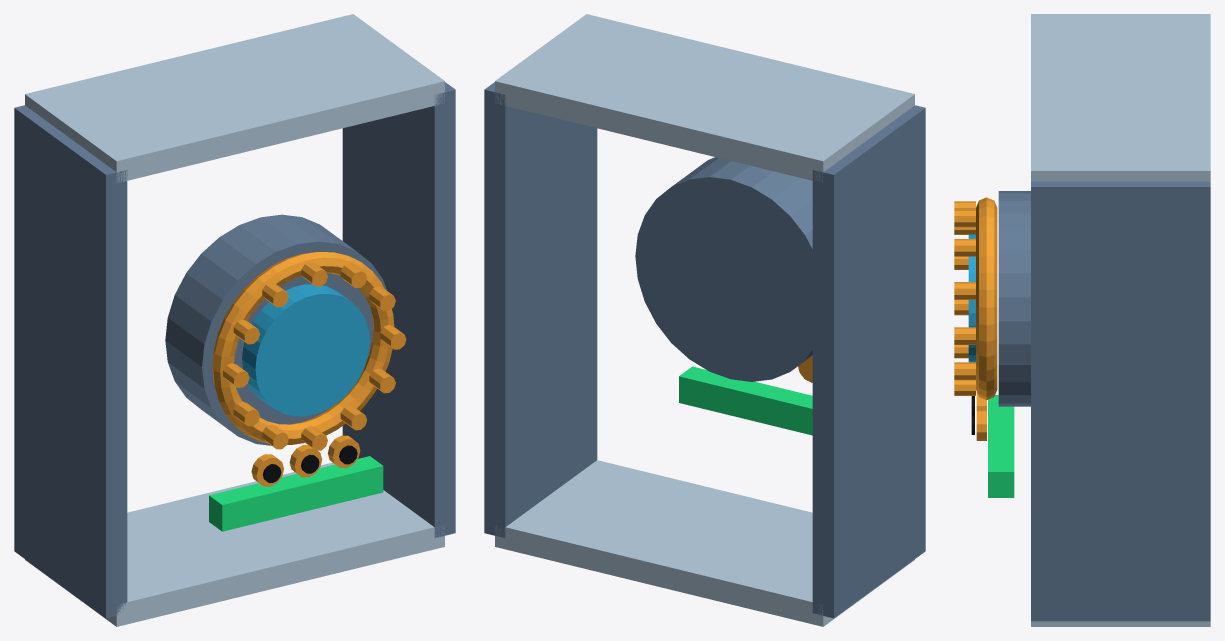
Rendered from 26_L89_ExternalDosimeterArray.fbx.
3 renders of one model, left to right at view 1: azimuth 30°, elevation 25°; view 2: azimuth 150°, elevation 25°; view 3: azimuth 270°, elevation 25°, orthographic. The views are drawn at different scales.
Visible parts, largest first — view 1: L87_ExternalDosimeterArray_Part_0000, L87_ExternalDosimeterArray_Part_0001, L87_ExternalDosimeterArray_Part_0002, L87_ExternalDosimeterArray_Part_0003, L87_ExternalDosimeterArray_Part_0004; view 2: L87_ExternalDosimeterArray_Part_0000, L87_ExternalDosimeterArray_Part_0001, L87_ExternalDosimeterArray_Part_0004; view 3: L87_ExternalDosimeterArray_Part_0000, L87_ExternalDosimeterArray_Part_0001, L87_ExternalDosimeterArray_Part_0002, L87_ExternalDosimeterArray_Part_0004, L87_ExternalDosimeterArray_Part_0003.
Boxes of the visible parts, box(x1,y1,x2,y2) form: L87_ExternalDosimeterArray_Part_0000: box(14, 82, 455, 618); L87_ExternalDosimeterArray_Part_0001: box(25, 14, 444, 626); L87_ExternalDosimeterArray_Part_0002: box(212, 252, 406, 450); L87_ExternalDosimeterArray_Part_0003: box(242, 284, 369, 416); L87_ExternalDosimeterArray_Part_0004: box(209, 456, 383, 531); L87_ExternalDosimeterArray_Part_0000: box(484, 82, 925, 618); L87_ExternalDosimeterArray_Part_0001: box(495, 14, 914, 626); L87_ExternalDosimeterArray_Part_0004: box(679, 366, 812, 435); L87_ExternalDosimeterArray_Part_0000: box(998, 181, 1210, 621); L87_ExternalDosimeterArray_Part_0001: box(1031, 14, 1210, 626); L87_ExternalDosimeterArray_Part_0002: box(954, 197, 997, 399); L87_ExternalDosimeterArray_Part_0004: box(988, 395, 1014, 497); L87_ExternalDosimeterArray_Part_0003: box(968, 234, 975, 362).
Size of the model in its own units: 165 by 210 by 107.
